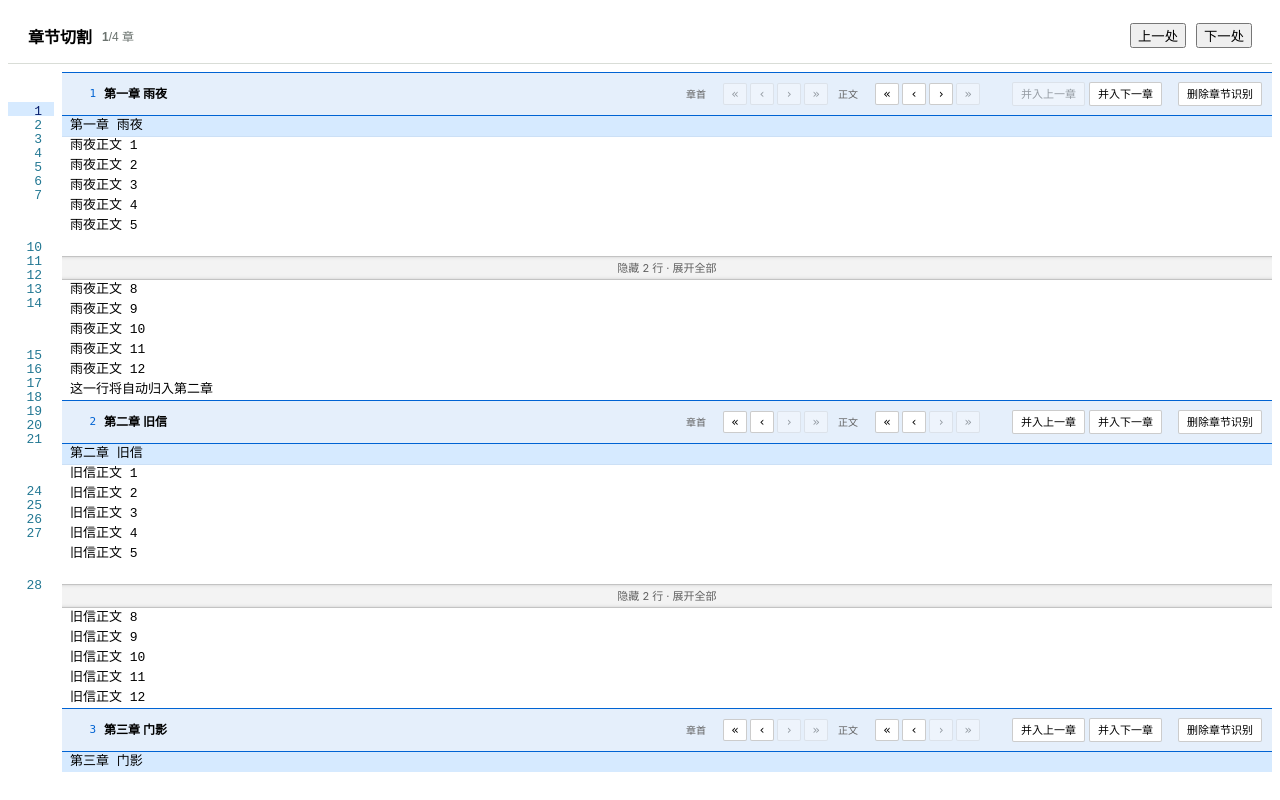
Scenario: project workspace controllers › 空章异常只提示，保存后不阻塞进入文本校对
The width and height of the screenshot is (1280, 800).
Check: the element with test id "chapter-anomaly-count" reads "1/4 章", box [102,27,134,44]
Click the button with test id "next-chapter-anomaly": (1224, 36) [1196,23,1252,48]
(page scrolled)
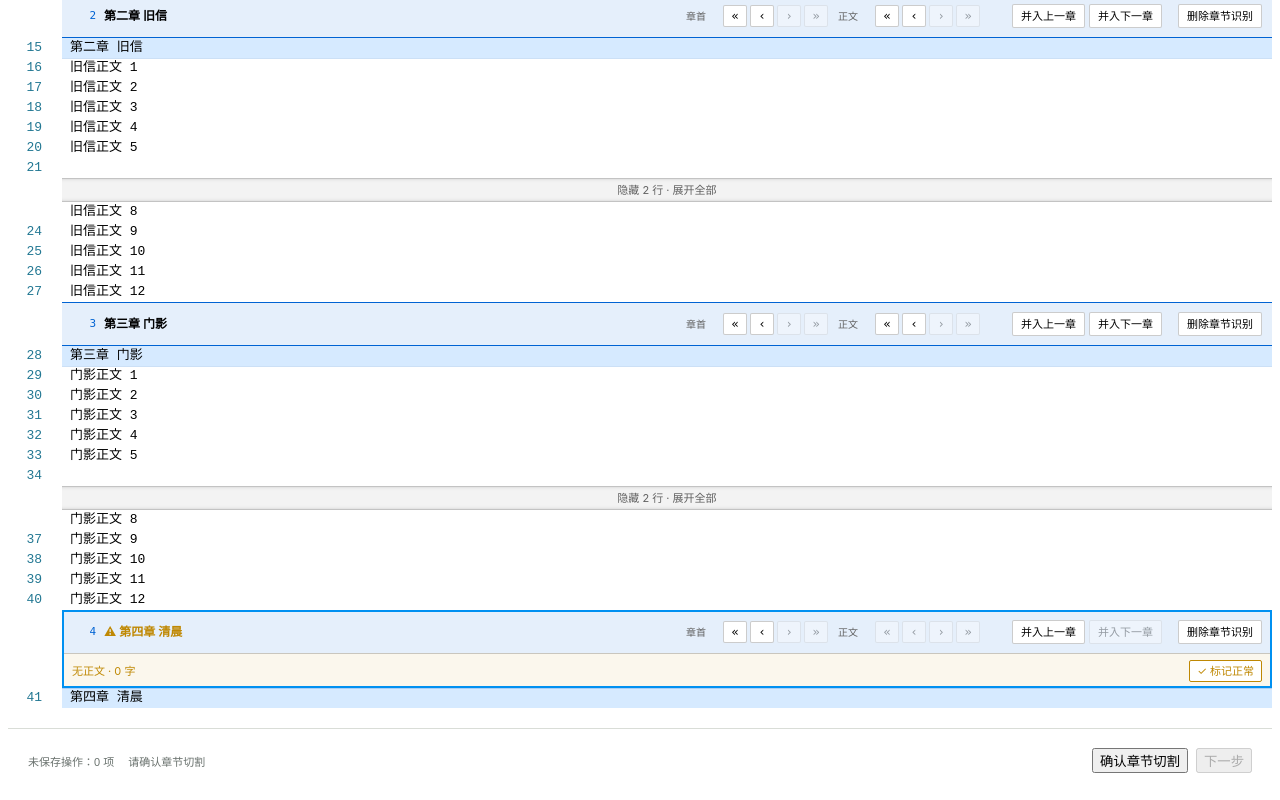
Check: the button with test id "next-proofreading" is disabled, box [1196,748,1252,773]
Check: the text with class "cm-chapter-widget__anomaly-reason" shows "无正文", box [72,664,135,678]
Click the button with test id "confirm-chapter-cut": (1140, 760) [1092,748,1188,773]
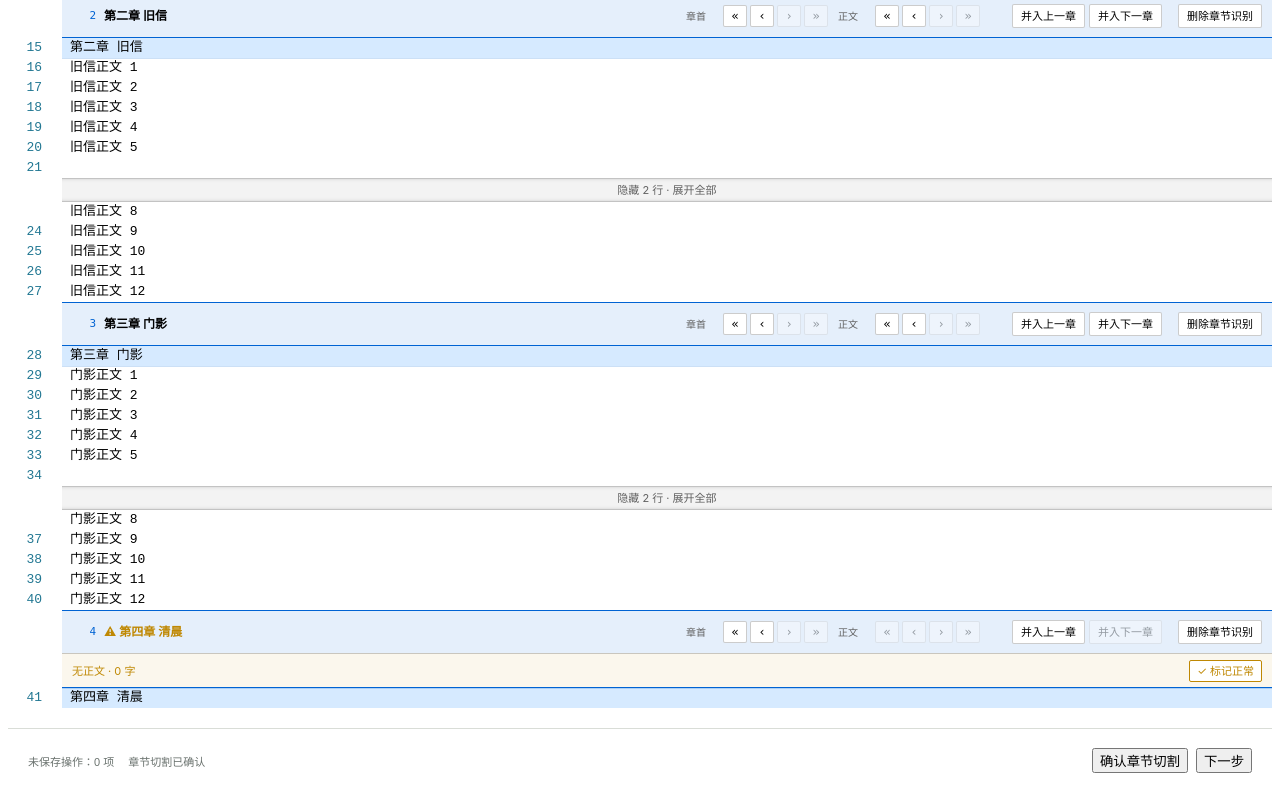
Check: the button with test id "next-proofreading" is enabled, box [1196,748,1252,773]
Check: the text with test id "chapter-structure-status" reads "章节切割已确认", box [128,756,205,768]
